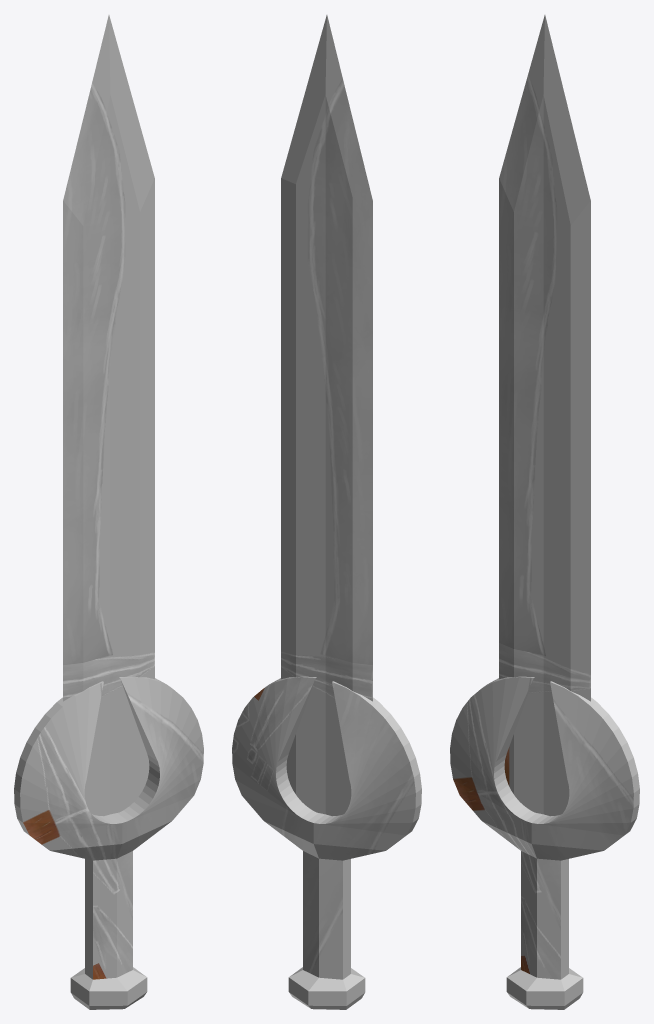
The model's file is Sword4.fbx.
3 views of the same model, side by side, from view 1: azimuth 30°, elevation 25°; view 2: azimuth 150°, elevation 25°; view 3: azimuth 330°, elevation 25° (orthographic).
Parts seen in each view (by area): view 1: Cube; view 2: Cube; view 3: Cube.
Boxes of the visible parts, x1,y1,x2,y2 form: Cube: (14,15,203,1009); Cube: (232,15,421,1009); Cube: (450,15,639,1009).
Bounding box in the file's own units: 20.63 × 105 × 7.21.
